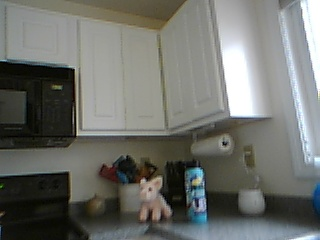piggy: (138, 176, 173, 223)
